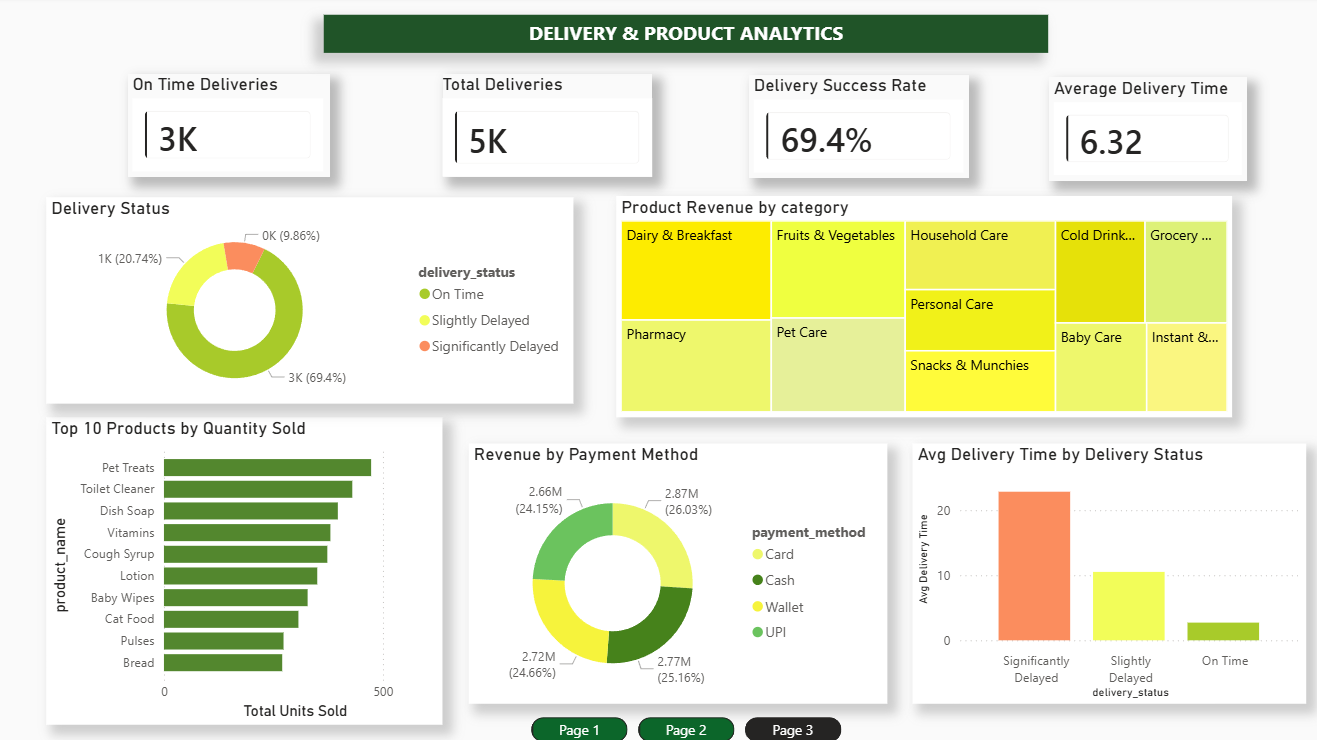

Layout of this report page (visuals, bound fields, positions):
{"tool":"powerbi","page":{"name":"Page 3","canvas":[1280,720],"ordinal":2},"visuals":[{"type":"textbox","box":[312.5,17.7,699.6,36.7],"z":0},{"type":"cardVisual","title":"Total Deliveries","fields":{"Data":["blinkit_delivery_performance.Total Deliveries"]},"box":[427.1,74.8,202.7,100.1],"z":1000},{"type":"cardVisual","title":"On Time Deliveries","fields":{"Data":["blinkit_delivery_performance.On-Time Deliveries"]},"box":[122.7,74.6,194.8,99.9],"z":2000},{"type":"cardVisual","title":"Delivery Success Rate","fields":{"Data":["blinkit_delivery_performance.On Time Delivery %"]},"box":[723,75.9,212.5,99.9],"z":3000},{"type":"cardVisual","title":"Average Delivery Time","fields":{"Data":["blinkit_delivery_performance.Average Delivery Time"]},"box":[1012.1,78.4,191,99.9],"z":4000},{"type":"clusteredBarChart","title":"Top 10 Products by Quantity Sold","fields":{"Category":["blinkit_products.product_name"],"Y":["blinkit_products.Total Units Sold"]},"box":[44.6,406.6,382.4,296.8],"z":5000},{"type":"treemap","fields":{"Values":["blinkit_products.Product Revenue"],"Group":["blinkit_products.category"]},"box":[594.8,193,594.8,213.5],"z":6000},{"type":"donutChart","title":"Revenue by Payment Method","fields":{"Category":["blinkit_orders.payment_method"],"Y":["blinkit_orders.Total Revenue"]},"box":[452.4,431.9,404.2,250.9],"z":7000},{"type":"clusteredColumnChart","title":"Avg Delivery Time by Delivery Status","fields":{"Category":["blinkit_delivery_performance.delivery_status"],"Y":["blinkit_delivery_performance.Avg Delivery Time"]},"box":[880.7,431.9,380,250.9],"z":8000},{"type":"donutChart","title":"Delivery Status","fields":{"Category":["blinkit_delivery_performance.delivery_status"],"Y":["blinkit_orders.Total Orders"]},"box":[44.6,194.2,509.1,199.1],"z":9000},{"type":"pageNavigator","box":[512.7,696.1,299.2,24.1],"z":10000}]}

Visuals, with their boxes in screenshot pixels (x1, y1, x2, y2), scaled from the page's 1280x720 canvas onto the 1317x740 screenshot:
textbox: [322, 18, 1041, 56]
"Total Deliveries" cardVisual: [439, 77, 648, 180]
"On Time Deliveries" cardVisual: [126, 77, 327, 179]
"Delivery Success Rate" cardVisual: [744, 78, 963, 181]
"Average Delivery Time" cardVisual: [1041, 81, 1238, 183]
"Top 10 Products by Quantity Sold" clusteredBarChart: [46, 418, 439, 723]
treemap - blinkit_products.Product Revenue x blinkit_products.category: [612, 198, 1224, 418]
"Revenue by Payment Method" donutChart: [465, 444, 881, 702]
"Avg Delivery Time by Delivery Status" clusteredColumnChart: [906, 444, 1297, 702]
"Delivery Status" donutChart: [46, 200, 570, 404]
pageNavigator: [528, 715, 835, 739]
